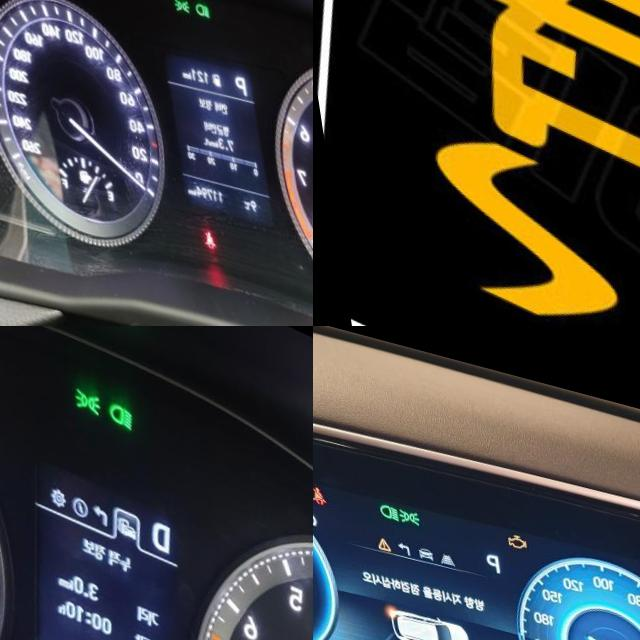Central Warning lamp: (370, 521, 386, 538)
LaneCenteringOff: (433, 534, 450, 550)
Low beam: (103, 388, 134, 422), (374, 487, 395, 508)
SideLamp: (68, 377, 101, 410), (394, 491, 417, 511)
